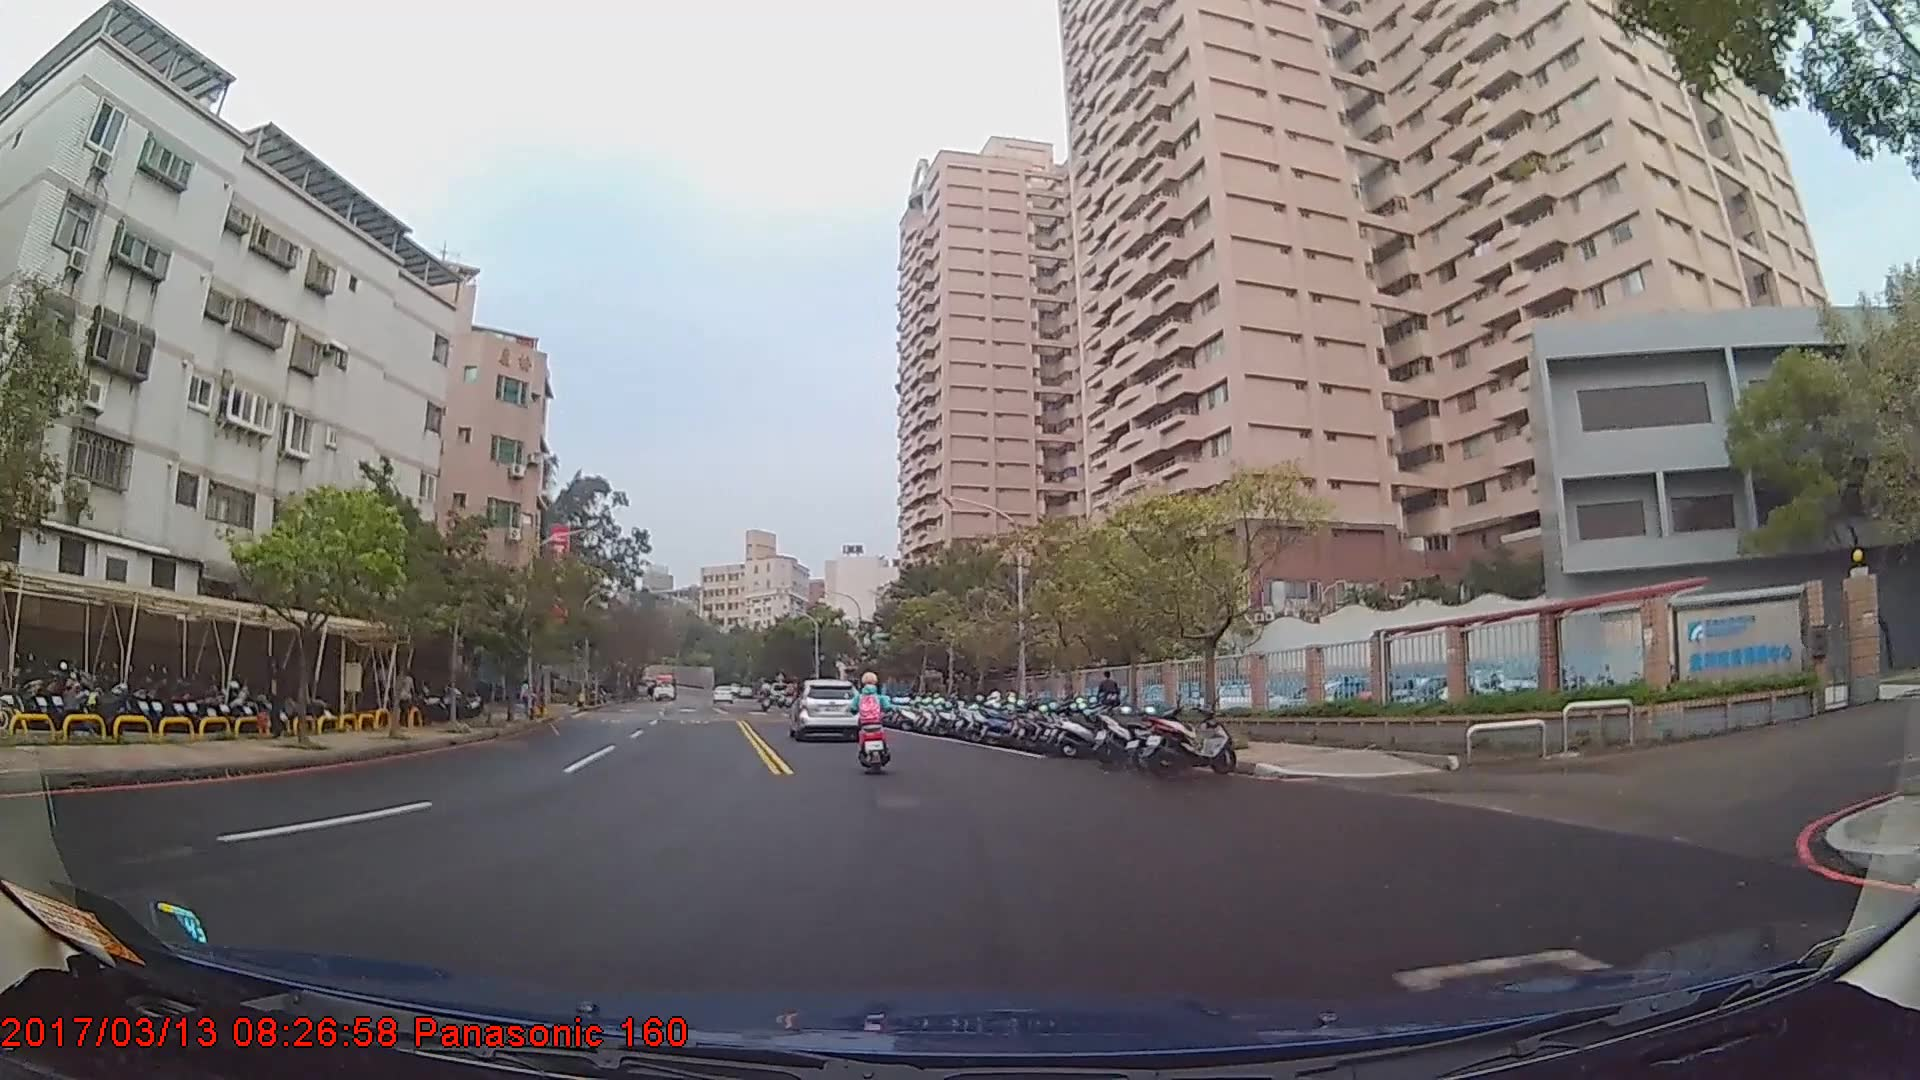pedestrian: (265, 656, 291, 740), (394, 663, 417, 732), (1098, 671, 1122, 734)
rider: (851, 670, 893, 769)
vehicle: (790, 678, 863, 740), (648, 674, 678, 703)
